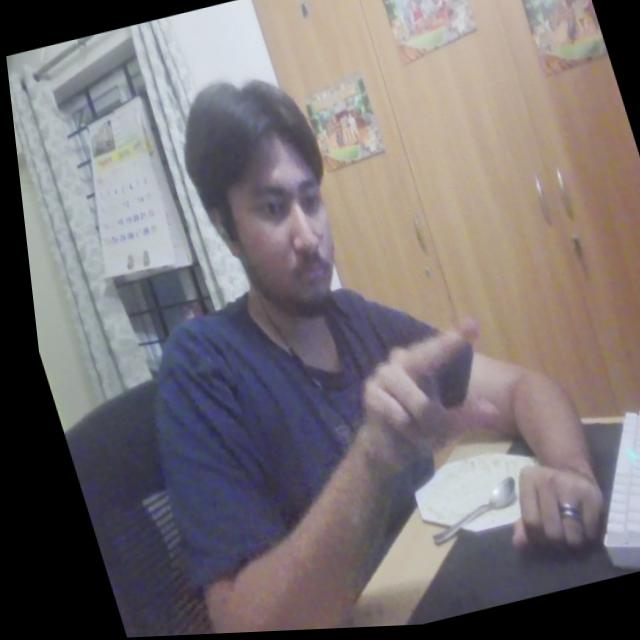no: (324, 318, 515, 500)
